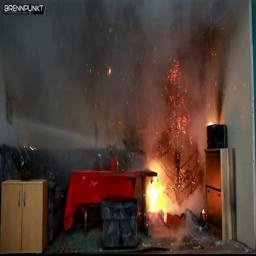fire: (134, 153, 181, 215)
